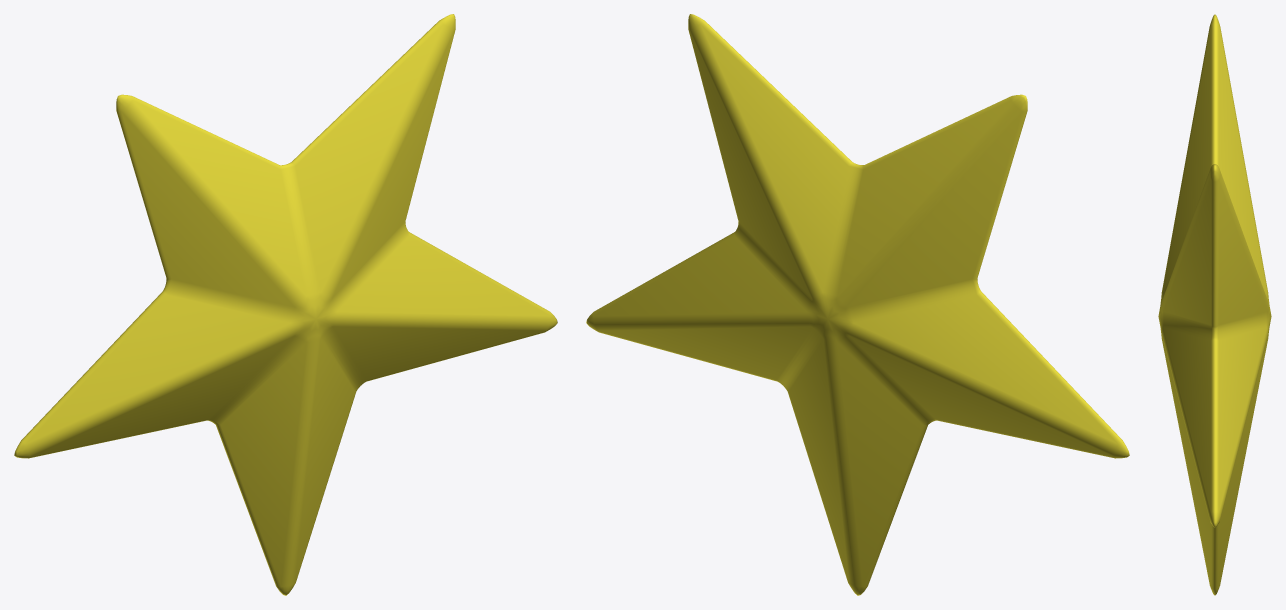
File: star.glb
3 views of the same model, side by side, from view 1: azimuth 30°, elevation 25°; view 2: azimuth 150°, elevation 25°; view 3: azimuth 270°, elevation 25° (orthographic). The views are drawn at different scales.
Visible parts, largest first — view 1: Circle; view 2: Circle; view 3: Circle.
Boxes of the visible parts, x1,y1,x2,y2 form: Circle: (14, 14, 557, 595); Circle: (586, 14, 1129, 595); Circle: (1158, 14, 1271, 595).
Bounding box in the file's own units: 3.44 × 3.27 × 0.663.
